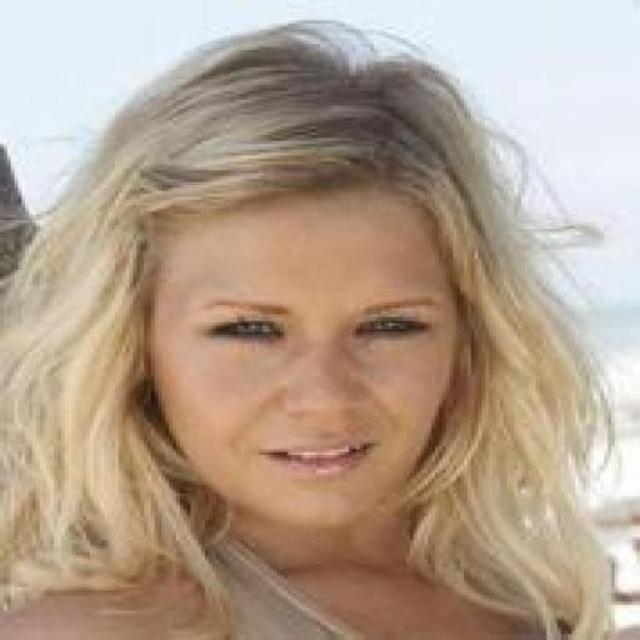bareface: (134, 152, 475, 498)
